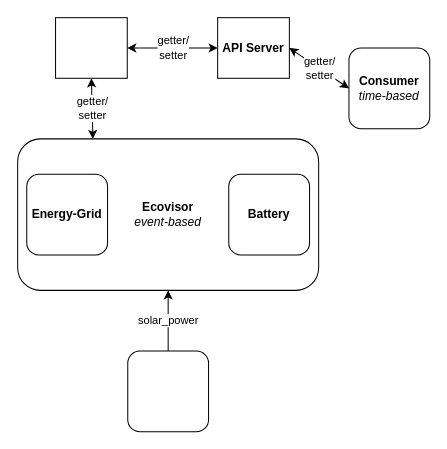
This 447x449 diagram has some shape labels left out. Here are the shapes that lost their labels. From the top down, the centre of each, then its label:
pixel 91 47: DB
pixel 168 391: PV time-based
